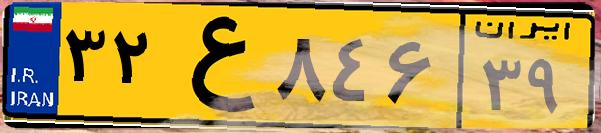2: (110, 28, 158, 98)
3: (57, 26, 110, 100), (475, 38, 525, 113)
4: (330, 28, 385, 110)
6: (385, 28, 445, 110)
8: (270, 28, 330, 110)
9: (525, 38, 570, 115)
ع: (158, 12, 270, 120)
